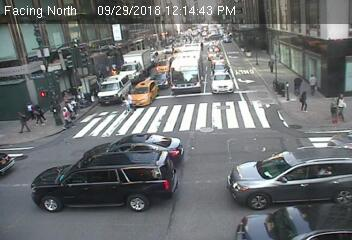car: (30, 153, 176, 215), (228, 146, 352, 204), (234, 205, 351, 240), (80, 134, 183, 166), (174, 41, 201, 92), (96, 70, 128, 105), (118, 49, 149, 85), (128, 80, 157, 106), (211, 71, 233, 90), (1, 151, 14, 176), (155, 58, 171, 76), (153, 72, 170, 88), (211, 64, 234, 75), (222, 34, 232, 44)
